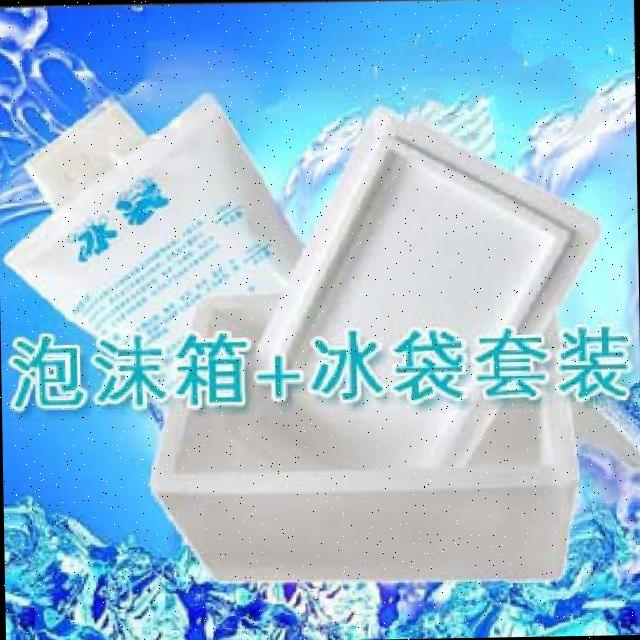styrofoam: (140, 102, 606, 588)
